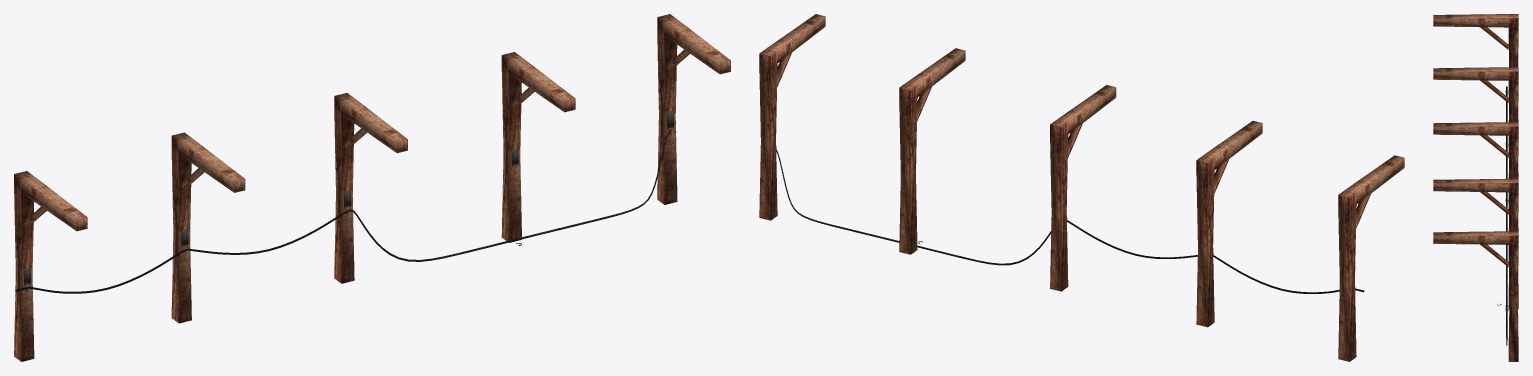
The model's file is VigasDeMadeira.fbx.
3 renders of one model, left to right at view 1: azimuth 30°, elevation 25°; view 2: azimuth 150°, elevation 25°; view 3: azimuth 270°, elevation 25°, orthographic. The views are drawn at different scales.
Parts seen in each view (by area): view 1: MastroMadeira.000; view 2: MastroMadeira.000; view 3: MastroMadeira.000.
Boxes of the visible parts, left/top/right/bottom form: MastroMadeira.000: left=14, top=14, right=730, bottom=361; MastroMadeira.000: left=759, top=14, right=1404, bottom=361; MastroMadeira.000: left=1433, top=14, right=1518, bottom=361.
Size of the model in its own units: 2463 by 648 by 398.
